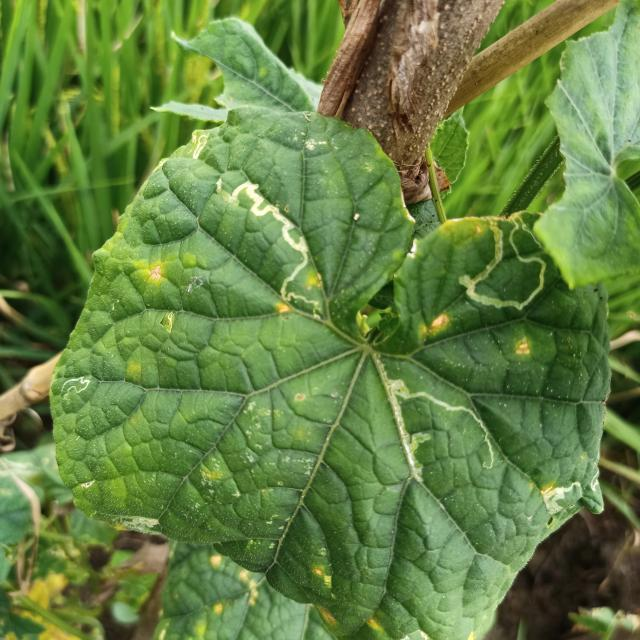disease_cucumber: (423, 313, 453, 341), (314, 566, 335, 588), (145, 263, 163, 283), (517, 338, 533, 359), (304, 273, 320, 292), (274, 301, 293, 314)
